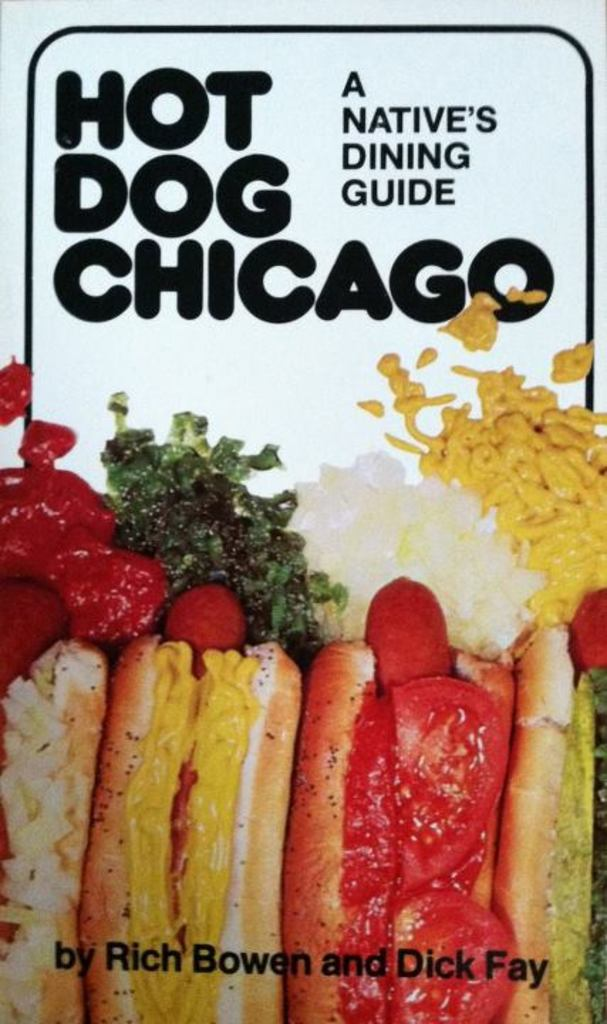hot_dog: (283, 573, 515, 1023), (81, 587, 301, 1023), (0, 580, 107, 1023), (500, 590, 606, 1023)
